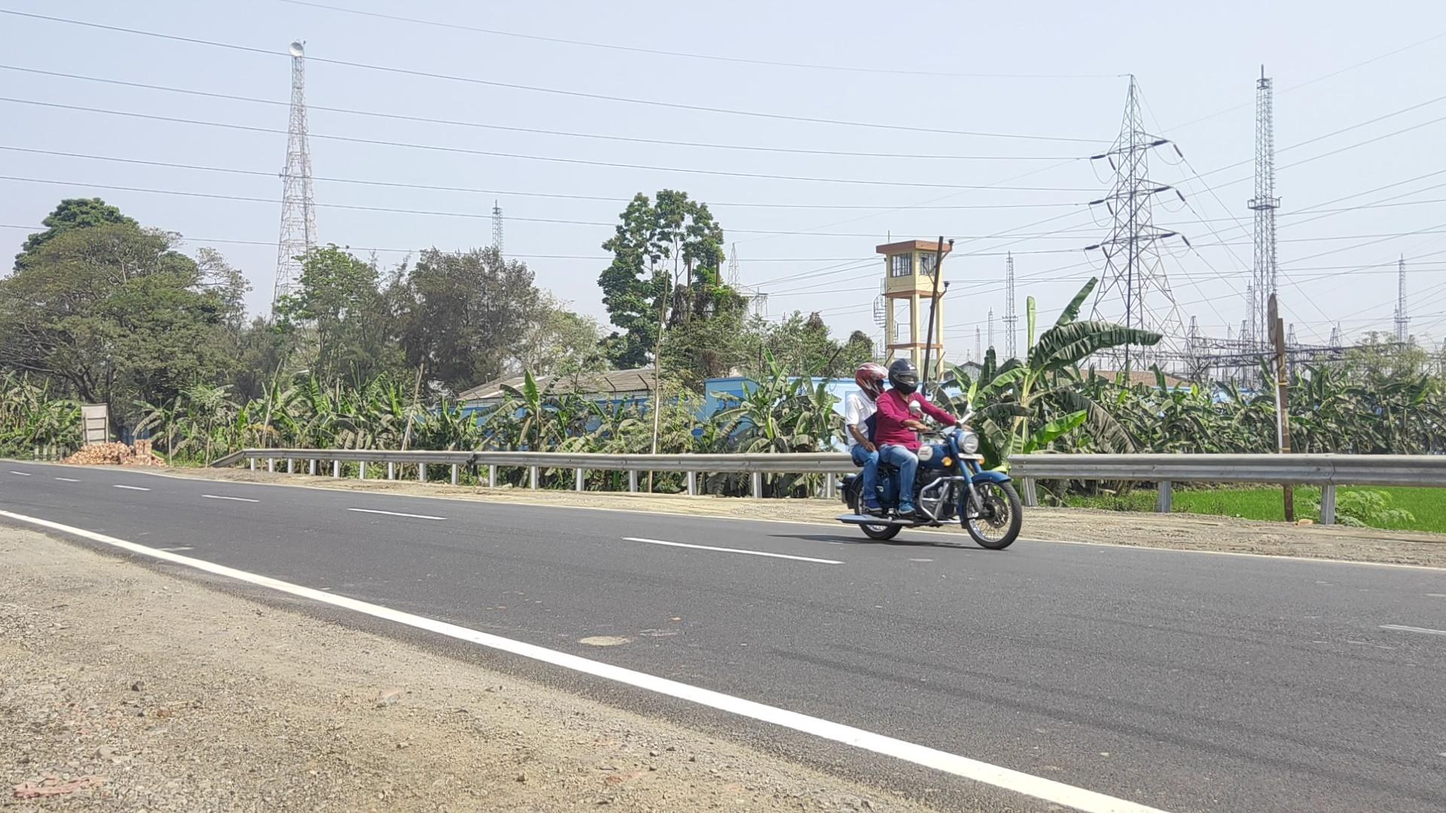bike: (834, 359, 1022, 550)
